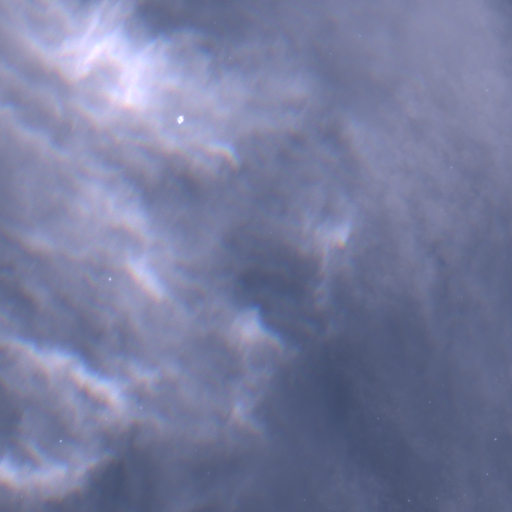Iceberg: (177, 116, 183, 123), (494, 438, 496, 440), (109, 277, 110, 280), (429, 401, 430, 402), (140, 407, 141, 408), (60, 440, 61, 441), (486, 473, 487, 474), (408, 500, 409, 501)
